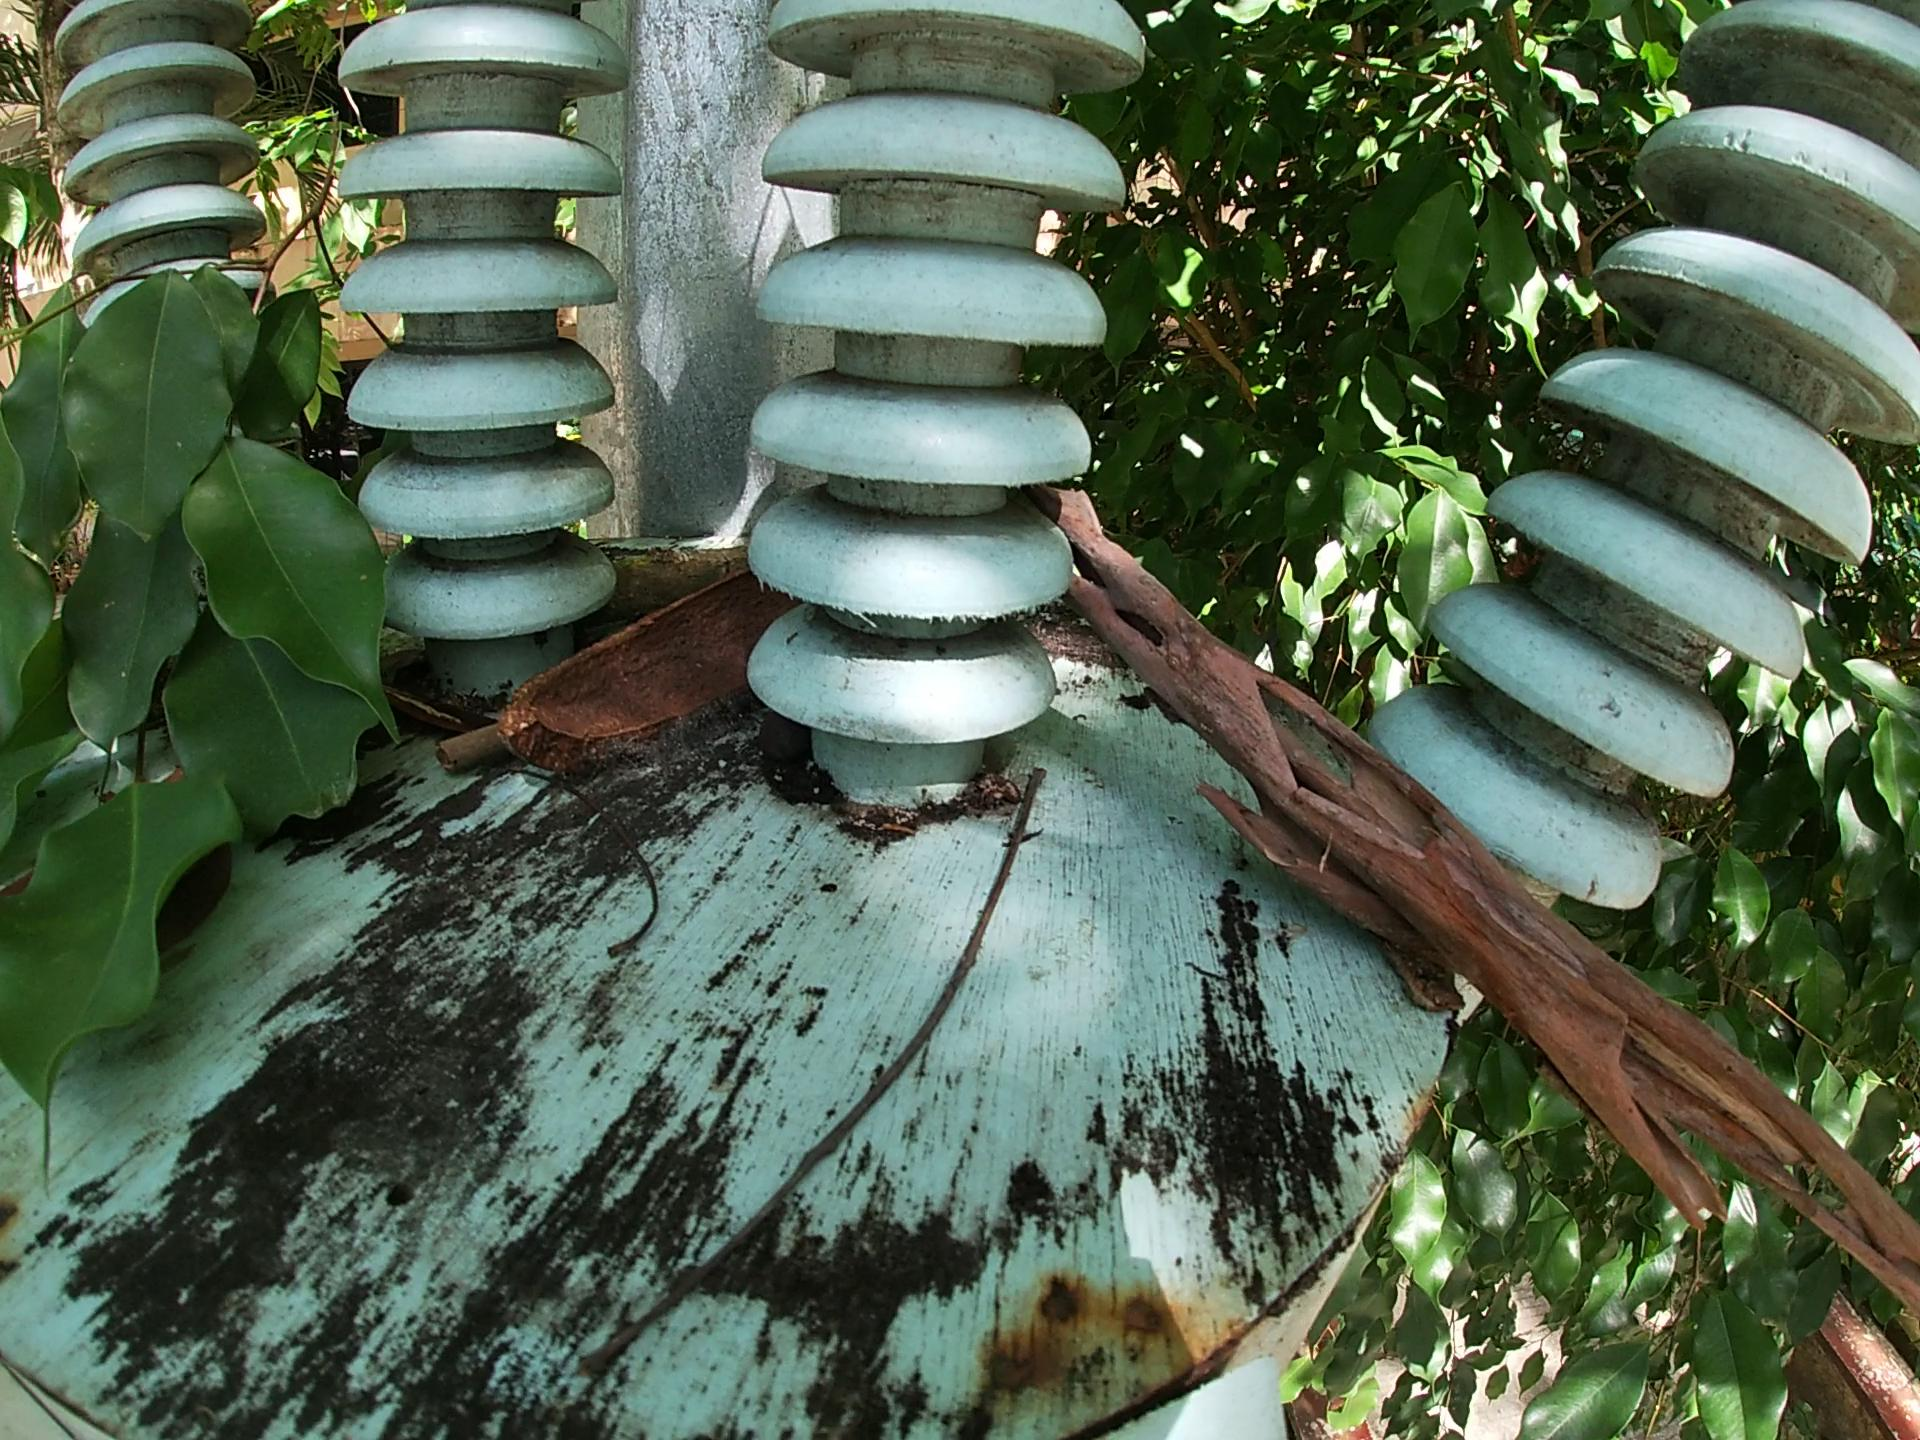branch with leaves: (2, 138, 440, 1224)
mahogany fruit: (493, 579, 788, 771)
tree branch: (1067, 513, 1915, 1327), (571, 762, 1048, 1389), (511, 765, 671, 964), (587, 540, 748, 622), (437, 731, 500, 784)
